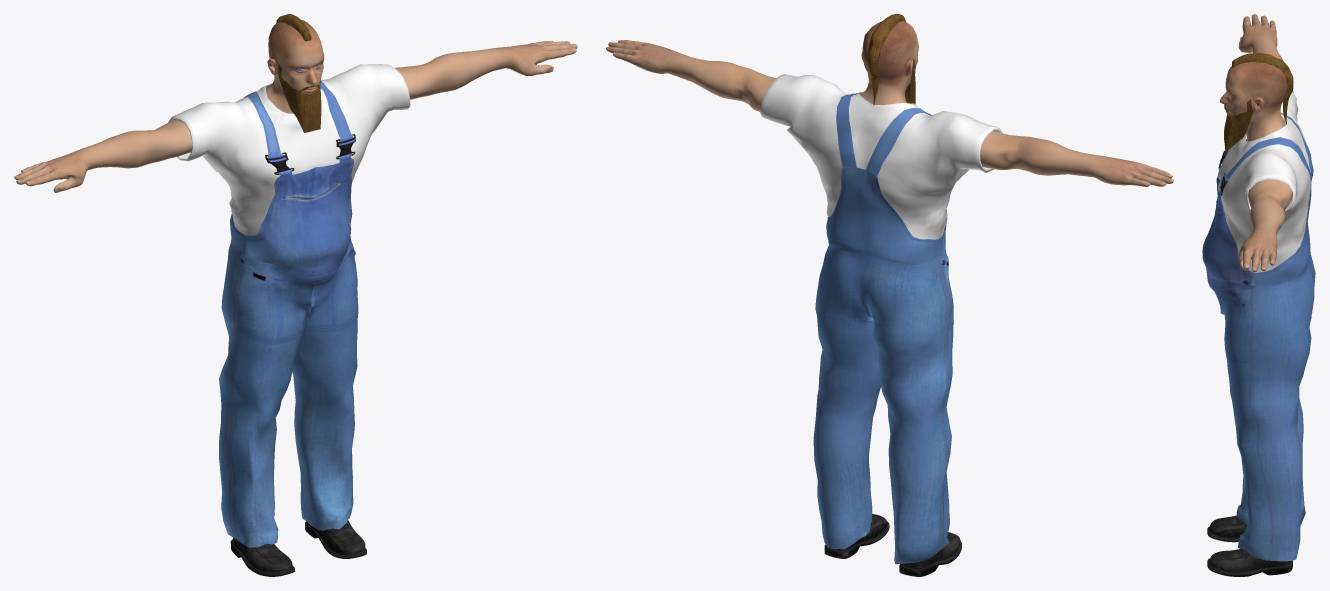
File: v_tulum.glb
The picture shows the model from 3 angles, left to right: view 1: azimuth 30°, elevation 25°; view 2: azimuth 150°, elevation 25°; view 3: azimuth 270°, elevation 25°; orthographic projection. The views are drawn at different scales.
Parts seen in each view (by area): view 1: male_worksuit01Mesh, male_genericMesh, shoes04Mesh, Mesh1_Blond_beard_0; view 2: male_worksuit01Mesh, male_genericMesh, shoes04Mesh, Mesh2_Blond_beard_0; view 3: male_worksuit01Mesh, male_genericMesh, shoes04Mesh, Mesh2_Blond_beard_0, Mesh1_Blond_beard_0.
Boxes of the visible parts, box(x1,y1,x2,y2) form: male_worksuit01Mesh: box(168, 64, 410, 547); male_genericMesh: box(14, 20, 577, 192); shoes04Mesh: box(230, 520, 366, 576); Mesh1_Blond_beard_0: box(278, 64, 321, 132); male_worksuit01Mesh: box(760, 74, 1002, 564); male_genericMesh: box(606, 21, 1173, 186); shoes04Mesh: box(824, 514, 961, 576); Mesh2_Blond_beard_0: box(867, 14, 905, 105); male_worksuit01Mesh: box(1202, 91, 1315, 561); male_genericMesh: box(1220, 14, 1292, 272); shoes04Mesh: box(1207, 515, 1292, 576); Mesh2_Blond_beard_0: box(1232, 53, 1293, 124); Mesh1_Blond_beard_0: box(1224, 99, 1253, 151).
Bounding box in the file's own units: 76.33 × 69.34 × 14.26.
6 materials, 6 textured.
